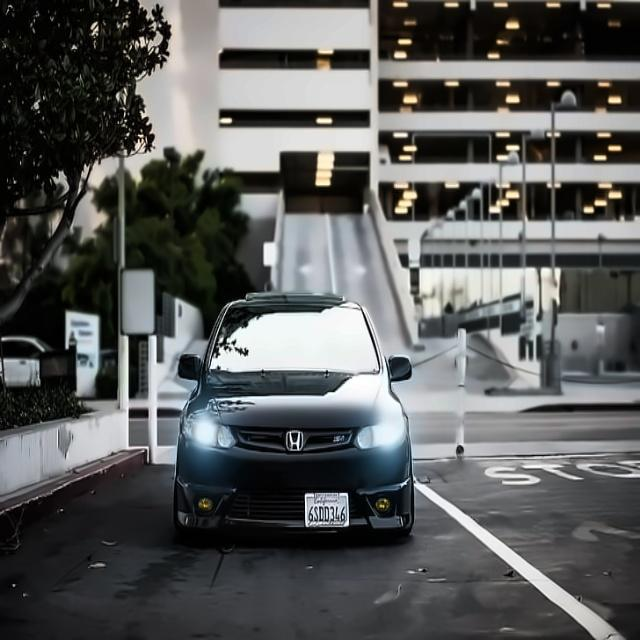Car hood: (182, 364, 403, 425)
Front bumper: (176, 453, 416, 539)
Headlight - -L-: (357, 412, 412, 452)
Headlight - -R-: (177, 410, 237, 449)
Side mirror - -L-: (384, 355, 415, 387)
Side mirror - -R-: (173, 352, 205, 385)
